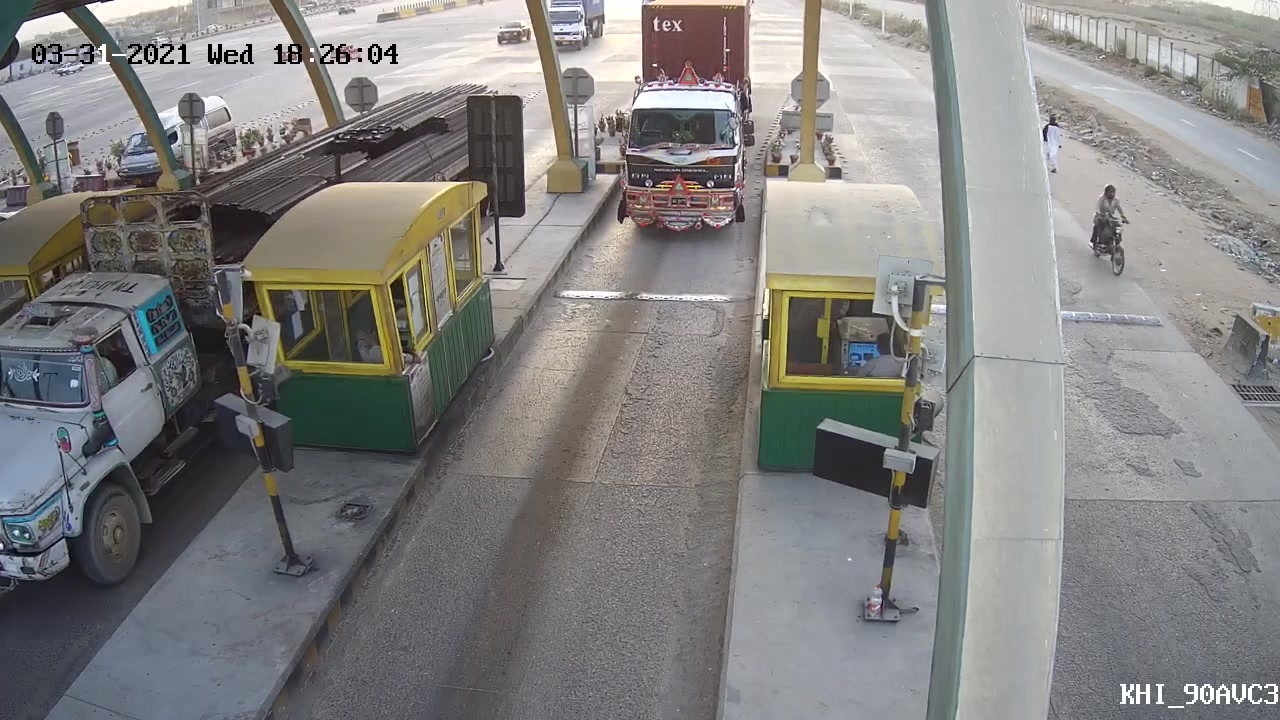F6: (615, 54, 769, 248)
